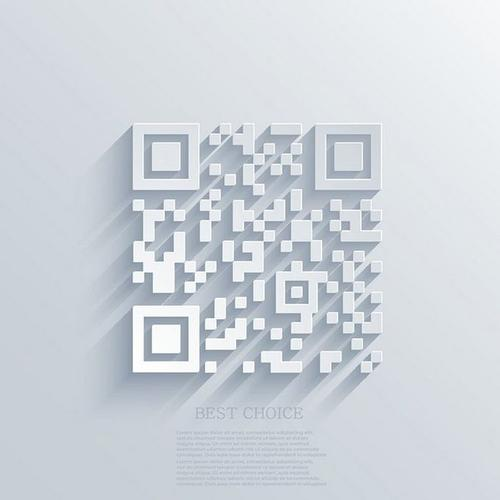QRCode: (123, 115, 388, 380)
